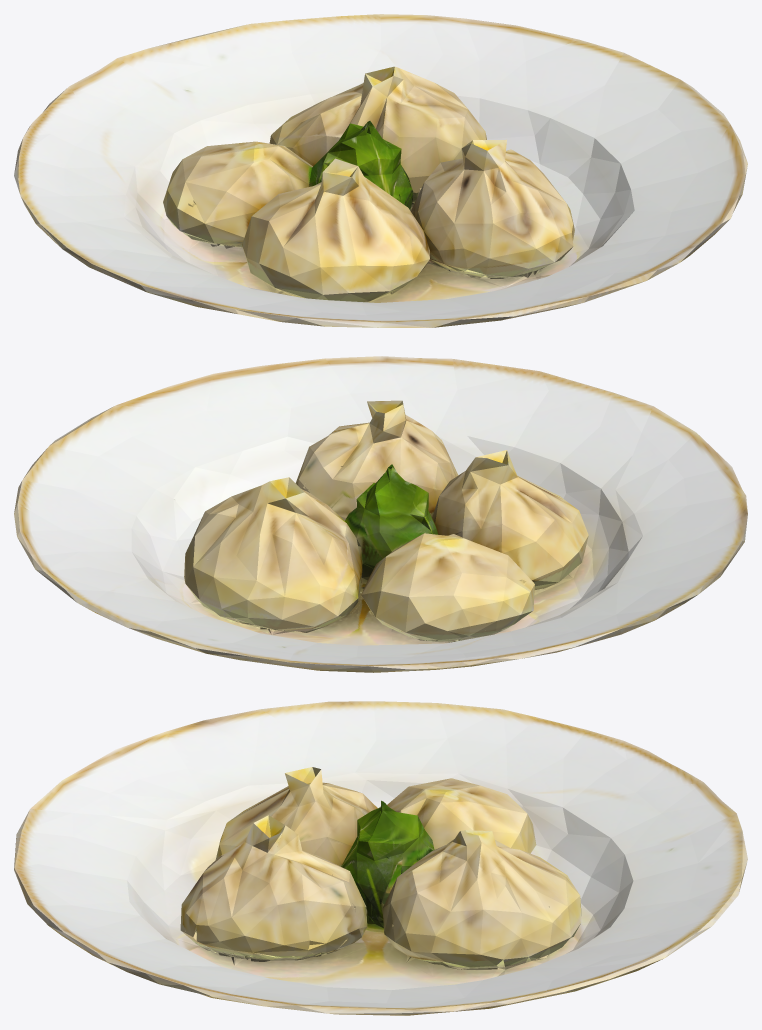
Rendered from Dumplings_Delight_0516151010_texture.fbx.
The picture shows the model from 3 angles, top to bottom: view 1: azimuth 30°, elevation 25°; view 2: azimuth 150°, elevation 25°; view 3: azimuth 270°, elevation 25°; orthographic projection.
Visible parts, largest first — view 1: temp; view 2: temp; view 3: temp.
Boxes of the visible parts, <box> form: temp: <box>14,14,747,327</box>; temp: <box>14,356,747,672</box>; temp: <box>14,701,747,1015</box>.
Bounding box in the file's own units: 200 × 39.72 × 200.
1 material, 1 textured.
